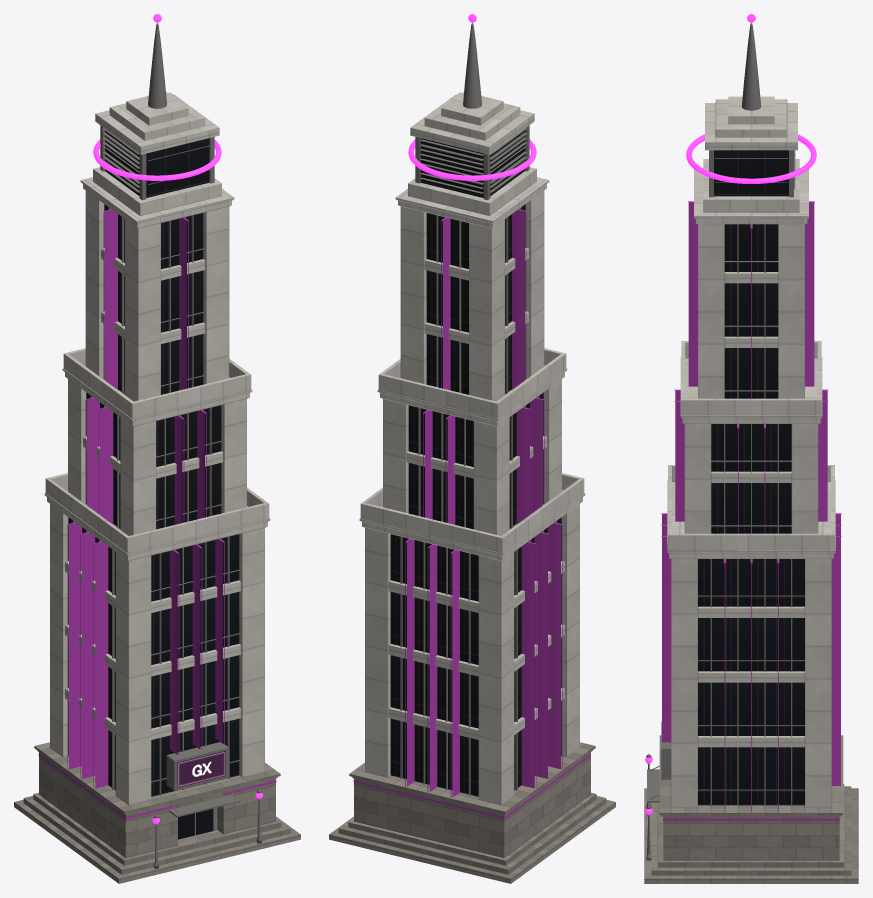
The model's file is s13-gonstead-x.glb.
The picture shows the model from 3 angles, left to right: view 1: azimuth 30°, elevation 25°; view 2: azimuth 150°, elevation 25°; view 3: azimuth 270°, elevation 25°; orthographic projection.
Parts seen in each view (by area): view 1: Landmark · Gonstead.X (Series 13); view 2: Landmark · Gonstead.X (Series 13); view 3: Landmark · Gonstead.X (Series 13).
Boxes of the visible parts, x1=… form: Landmark · Gonstead.X (Series 13): x1=14, y1=14, x2=300, y2=883; Landmark · Gonstead.X (Series 13): x1=329, y1=14, x2=615, y2=883; Landmark · Gonstead.X (Series 13): x1=644, y1=14, x2=858, y2=883.
Size of the model in its own units: 12 by 51 by 12.
Materials: 7 (4 with a texture image).
